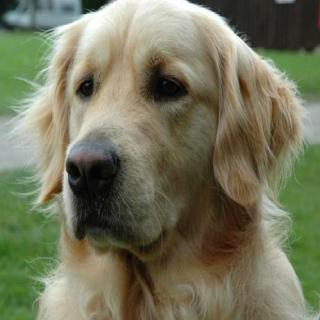dog: (22, 3, 291, 262)
nose: (59, 138, 126, 204)
